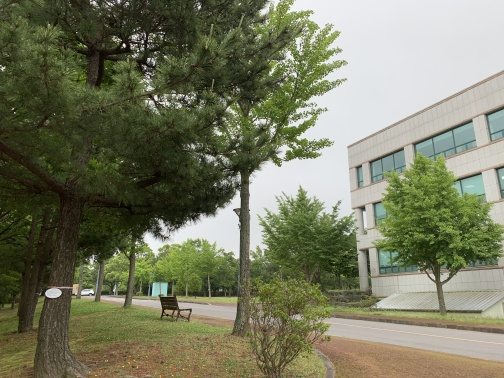Second Library: (344, 81, 504, 322)
